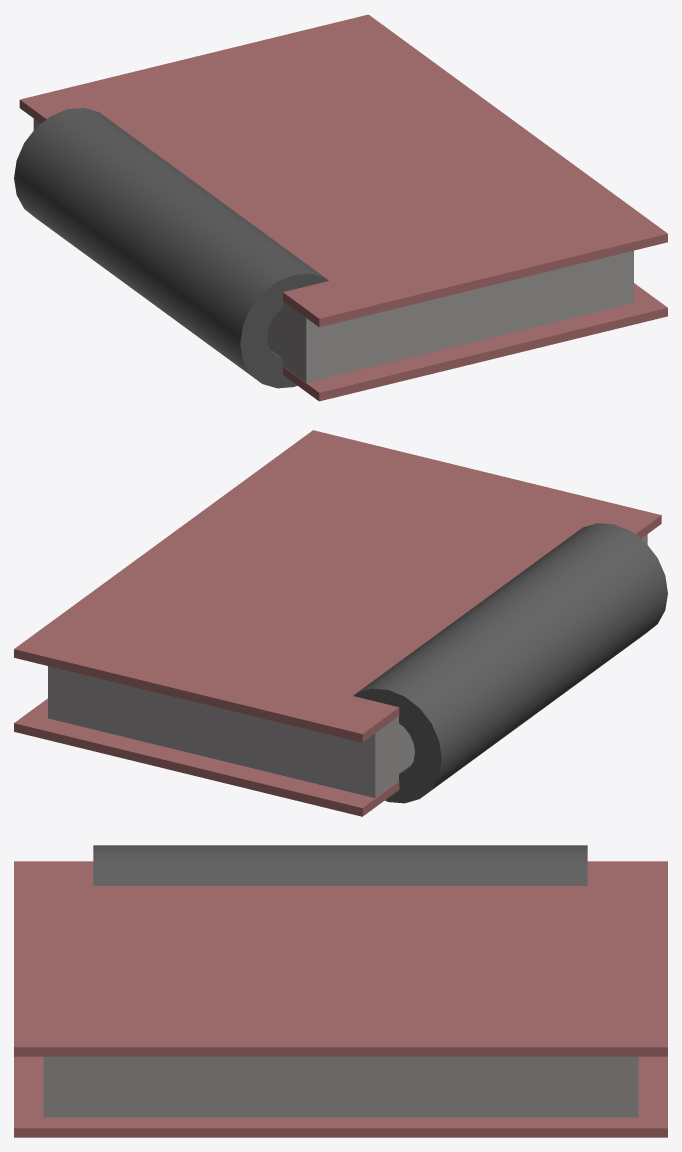
File: book1.fbx
3 renders of one model, top to bottom at view 1: azimuth 30°, elevation 25°; view 2: azimuth 150°, elevation 25°; view 3: azimuth 270°, elevation 25°, orthographic. The views are drawn at different scales.
Visible parts, largest first — view 1: pasted__pCube1, pPipe1, pCube1, pasted__pasted__pCube1; view 2: pasted__pCube1, pPipe1, pCube1, pasted__pasted__pCube1; view 3: pasted__pCube1, pCube1, pPipe1, pasted__pasted__pCube1.
Boxes of the visible parts, bbox=[...] form: pasted__pCube1: bbox=[19, 14, 667, 327]; pPipe1: bbox=[14, 108, 328, 388]; pCube1: bbox=[33, 118, 633, 382]; pasted__pasted__pCube1: bbox=[283, 283, 667, 401]; pasted__pCube1: bbox=[14, 430, 661, 742]; pPipe1: bbox=[353, 523, 667, 803]; pCube1: bbox=[48, 534, 647, 798]; pasted__pasted__pCube1: bbox=[14, 698, 399, 816]; pasted__pCube1: bbox=[14, 861, 667, 1056]; pCube1: bbox=[43, 1056, 638, 1117]; pPipe1: bbox=[93, 845, 587, 885]; pasted__pasted__pCube1: bbox=[14, 1056, 667, 1137].
Bounding box in the file's own units: 6.07 × 1.66 × 8.04.
